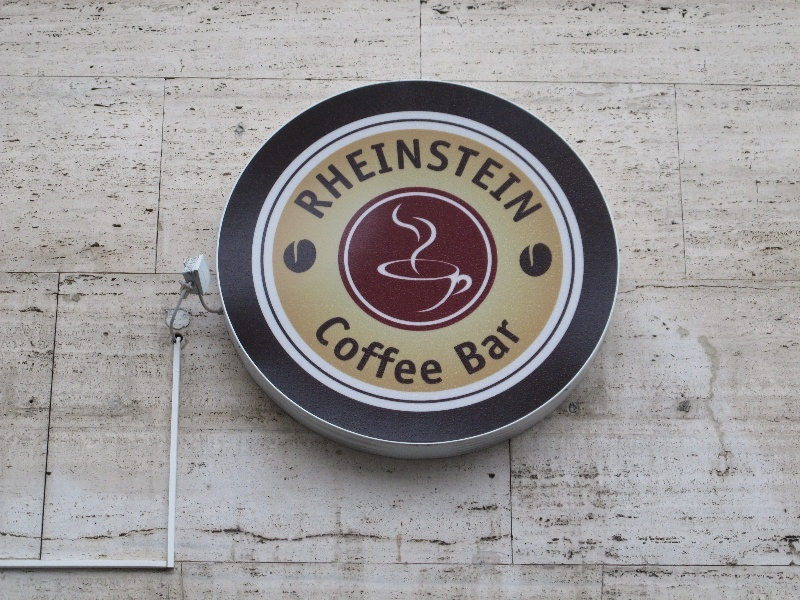text: (305, 133, 320, 233), (321, 133, 336, 233), (337, 133, 352, 233), (353, 133, 368, 233), (369, 133, 384, 233), (385, 133, 400, 233), (401, 133, 416, 233), (417, 133, 432, 233), (433, 133, 448, 233), (449, 133, 464, 233), (465, 133, 480, 233), (481, 133, 496, 233), (497, 133, 512, 233), (513, 133, 528, 233), (529, 133, 543, 233), (337, 314, 352, 396), (353, 314, 368, 396), (369, 314, 384, 396), (385, 314, 400, 396), (401, 314, 416, 396), (417, 314, 432, 396), (292, 133, 304, 233), (465, 319, 480, 379), (481, 319, 496, 379), (497, 319, 512, 379), (433, 314, 443, 396), (453, 319, 464, 379), (513, 319, 523, 379)
